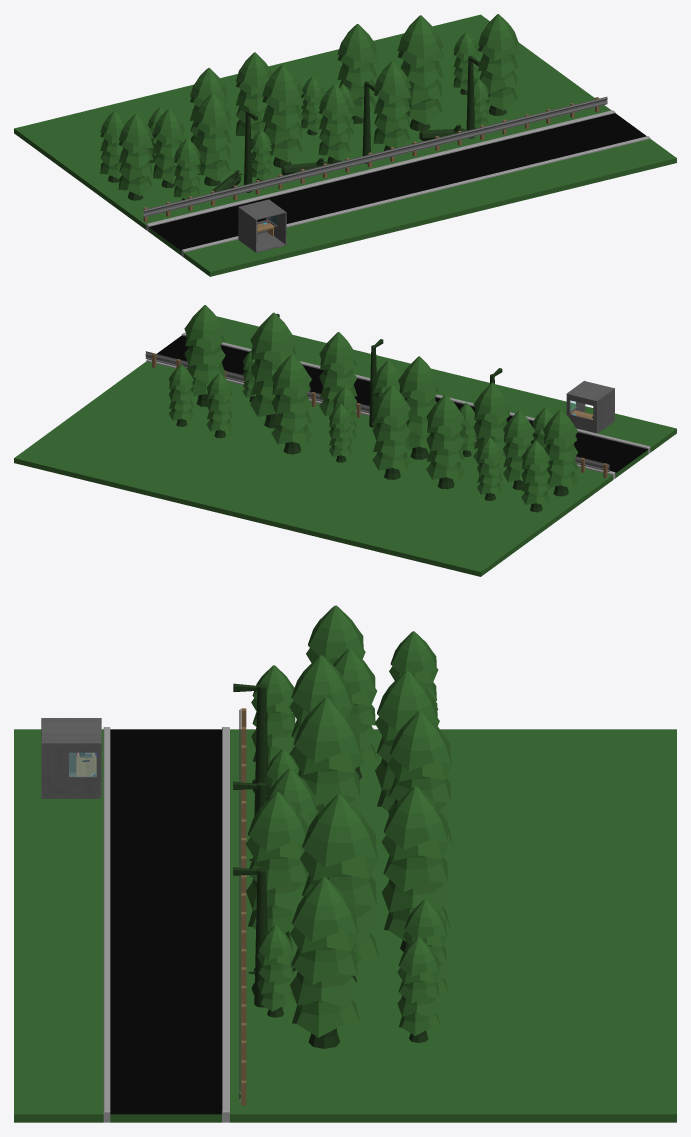
The model's file is escenario.glb.
3 renders of one model, top to bottom at view 1: azimuth 30°, elevation 25°; view 2: azimuth 150°, elevation 25°; view 3: azimuth 270°, elevation 25°, orthographic. The views are drawn at different scales.
Visible parts, largest first — view 1: plano calle, arboles, rail, radio, Cylinder, Cylinder.003, Cylinder.001, Cylinder.002; view 2: plano calle, arboles, radio, rail, Cylinder.002; view 3: plano calle, arboles, radio, rail, Cylinder.001, Cylinder.003.
Part boxes in pixels (bbox=[...]): plano calle: bbox=[14, 14, 676, 276]; arboles: bbox=[100, 14, 518, 200]; rail: bbox=[143, 96, 607, 222]; radio: bbox=[238, 199, 286, 252]; Cylinder: bbox=[212, 124, 466, 191]; Cylinder.003: bbox=[466, 56, 480, 138]; Cylinder.001: bbox=[244, 110, 257, 192]; Cylinder.002: bbox=[362, 81, 376, 163]; plano calle: bbox=[14, 316, 676, 576]; arboles: bbox=[168, 305, 578, 512]; radio: bbox=[566, 380, 614, 433]; rail: bbox=[145, 351, 609, 478]; Cylinder.002: bbox=[369, 339, 383, 427]; plano calle: bbox=[14, 727, 676, 1122]; arboles: bbox=[246, 605, 453, 1048]; radio: bbox=[41, 718, 101, 798]; rail: bbox=[239, 708, 246, 1105]; Cylinder.001: bbox=[233, 683, 268, 815]; Cylinder.003: bbox=[233, 867, 267, 1007].
Bounding box in the file's own units: 95.78 × 22.69 × 69.71.
Materials: 36 (11 with a texture image).
